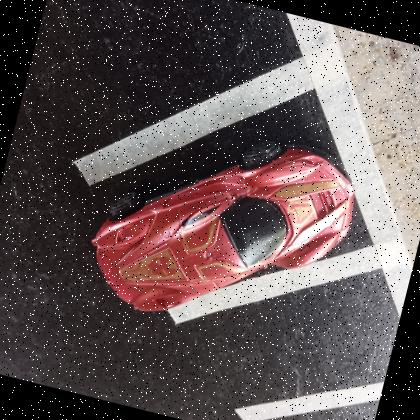Car: (92, 142, 355, 310)
